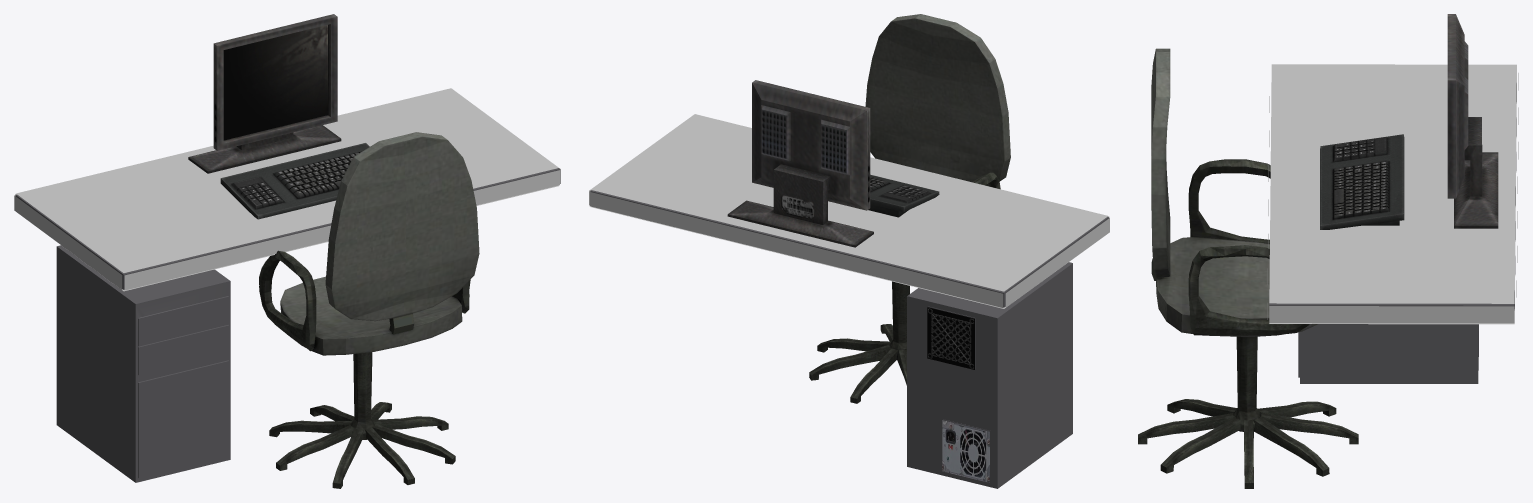
File: SCP CB Desk.obj
The picture shows the model from 3 angles, left to right: view 1: azimuth 30°, elevation 25°; view 2: azimuth 150°, elevation 25°; view 3: azimuth 270°, elevation 25°; orthographic projection. The views are drawn at different scales.
Visible parts, largest first — view 1: OfficeSeat1, Union1, Part8, Meshesmonitor1, Mesheskeyboard1, Part6, Part10, Part5; view 2: Part8, Union1, OfficeSeat1, Meshesmonitor1, Part7, Part2, Part4, Mesheskeyboard1, Part5, Part10, Part9; view 3: Part8, OfficeSeat1, Union1, Mesheskeyboard1, Meshesmonitor1, Part11, Part5.
Boxes of the visible parts, box(x1,y1,x2,y2) form: OfficeSeat1: box(259, 132, 479, 488); Union1: box(56, 245, 230, 482); Part8: box(16, 88, 558, 272); Meshesmonitor1: box(188, 14, 341, 173); Mesheskeyboard1: box(220, 143, 369, 219); Part6: box(124, 170, 559, 290); Part10: box(14, 195, 122, 289); Part5: box(15, 168, 559, 289); Part8: box(590, 114, 1107, 291); Union1: box(907, 262, 1072, 488); OfficeSeat1: box(809, 14, 1010, 403); Meshesmonitor1: box(727, 80, 873, 247); Part7: box(589, 192, 1003, 307); Part2: box(942, 420, 989, 482); Part4: box(927, 307, 974, 369); Mesheskeyboard1: box(868, 174, 939, 217); Part5: box(590, 190, 1108, 307); Part10: box(1005, 218, 1109, 307); Part9: box(591, 206, 1105, 308); Part8: box(1269, 64, 1516, 303); OfficeSeat1: box(1138, 48, 1358, 488); Union1: box(1298, 324, 1478, 383); Mesheskeyboard1: box(1320, 134, 1404, 229); Meshesmonitor1: box(1447, 14, 1498, 228); Part11: box(1269, 306, 1514, 323); Part5: box(1269, 83, 1516, 308).
Bounding box in the file's own units: 6.05 × 4.66 × 4.04.
